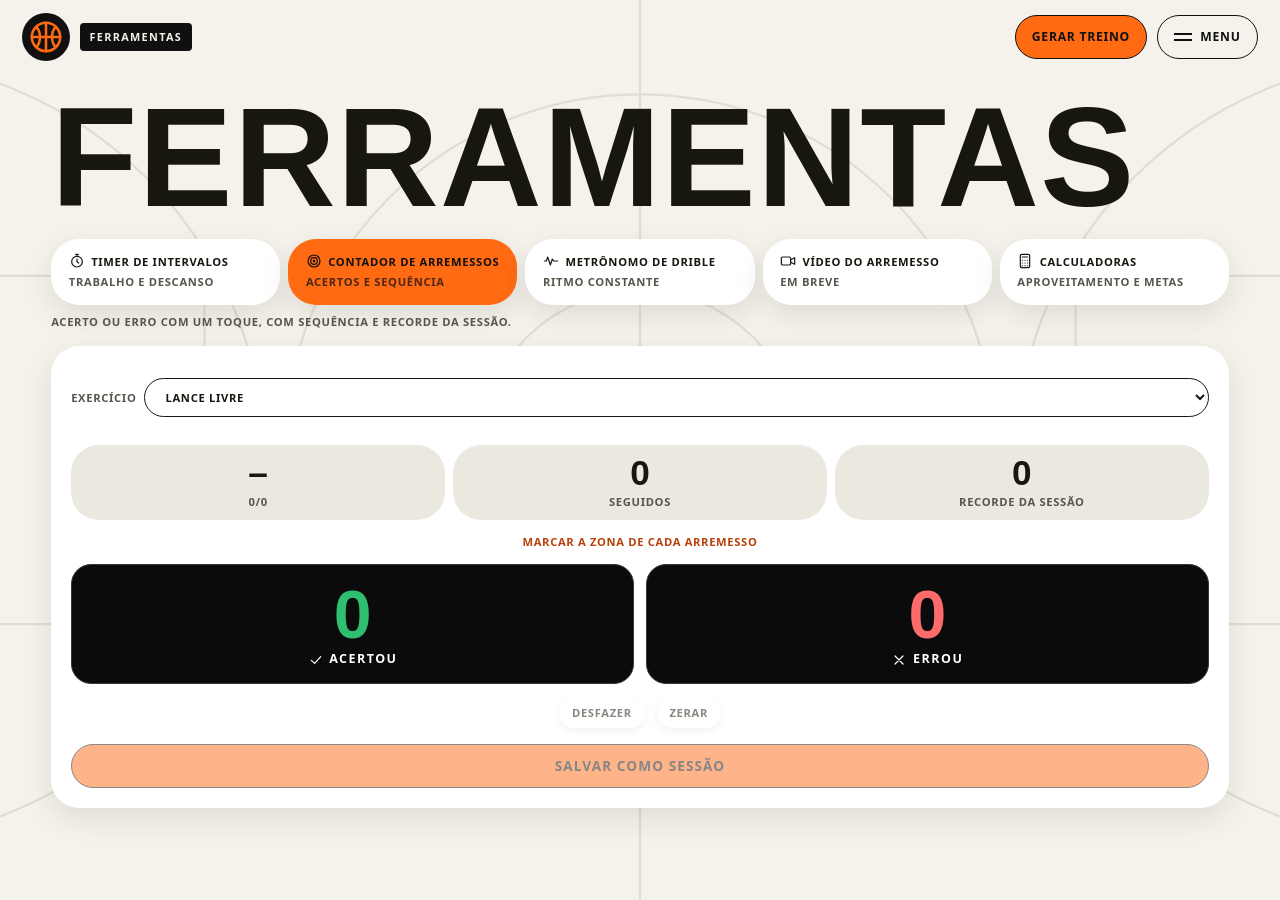
Test: Contador de arremessos › mostra o erro e deixa tentar de novo quando o servidor recusa
This screenshot has width=1280, height=900.
Expected: the dropdown labelled "Exercício" shows "Lance livre", [144,378,1209,416]
Click the button "0 Errou". click: (927, 624)
box: [646,564,1209,684]
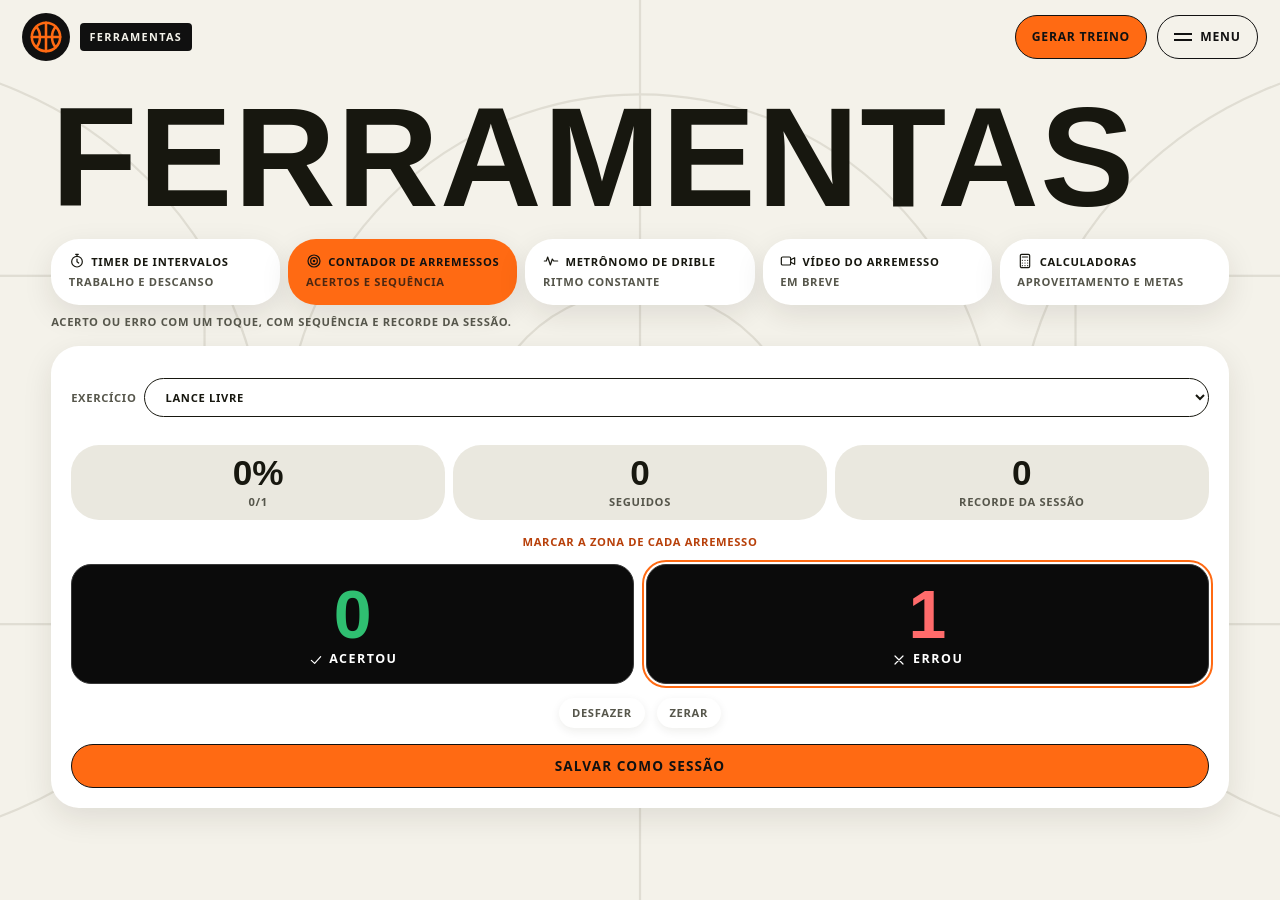
Click the button "Salvar como sessão". click: (640, 766)
box: [71,744,1209,788]
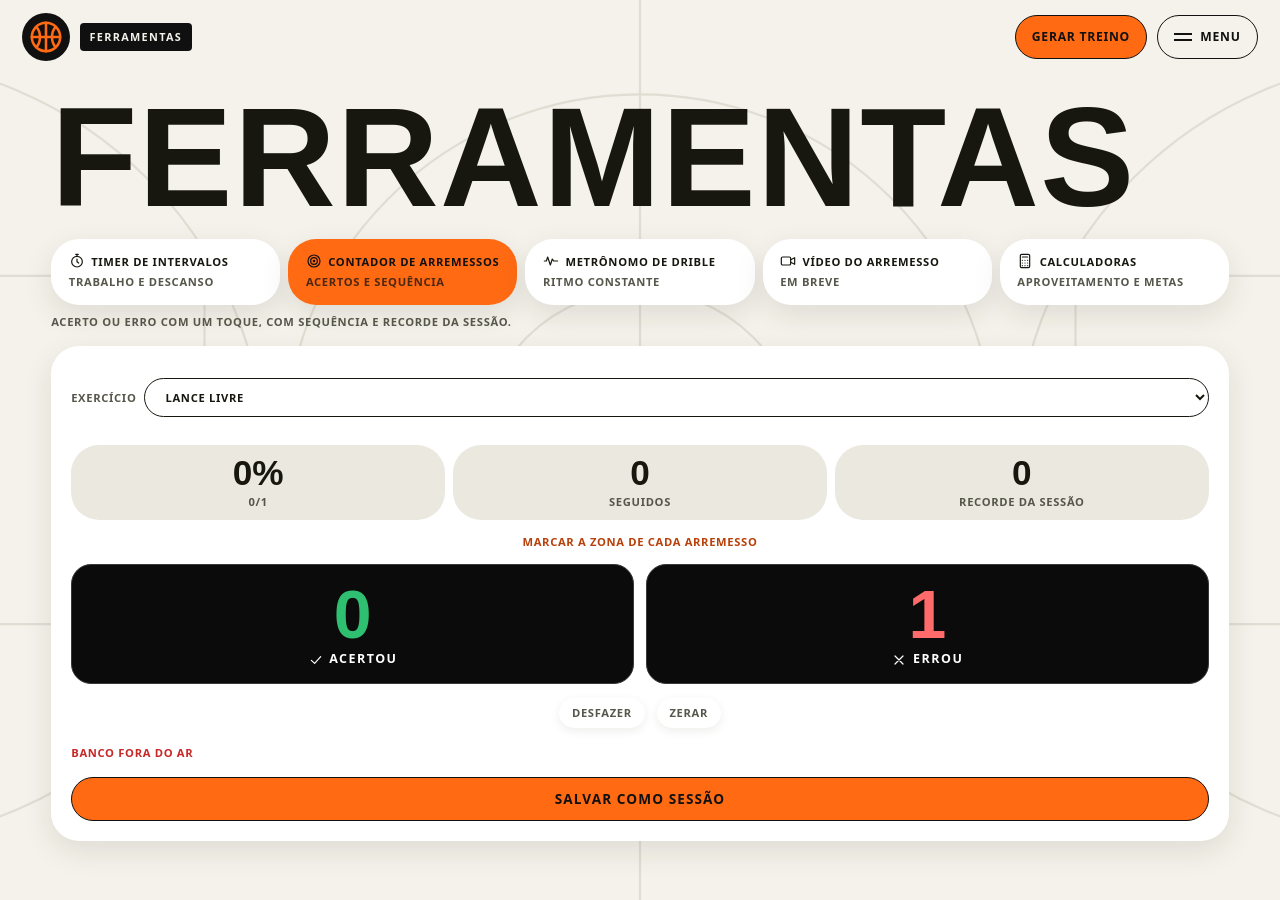
Expected: the button "Salvar como sessão" is enabled, [71,777,1209,821]
Expected: the message reads "Banco fora do ar", [71,745,193,760]
